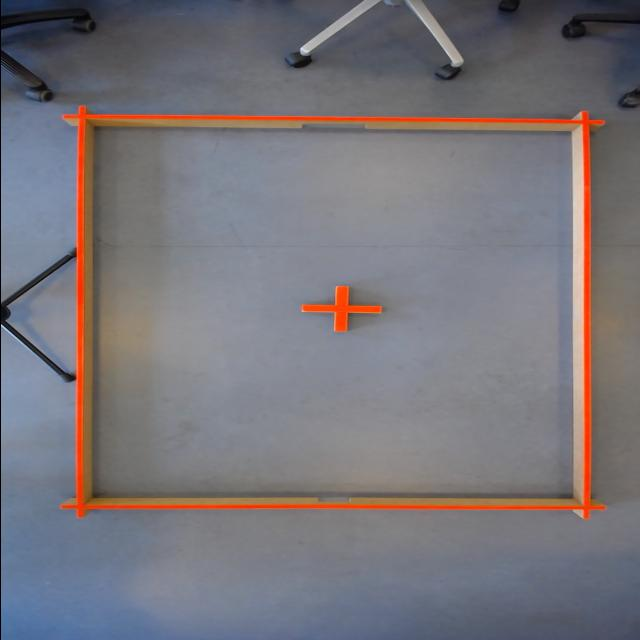cross: (300, 283, 385, 333)
